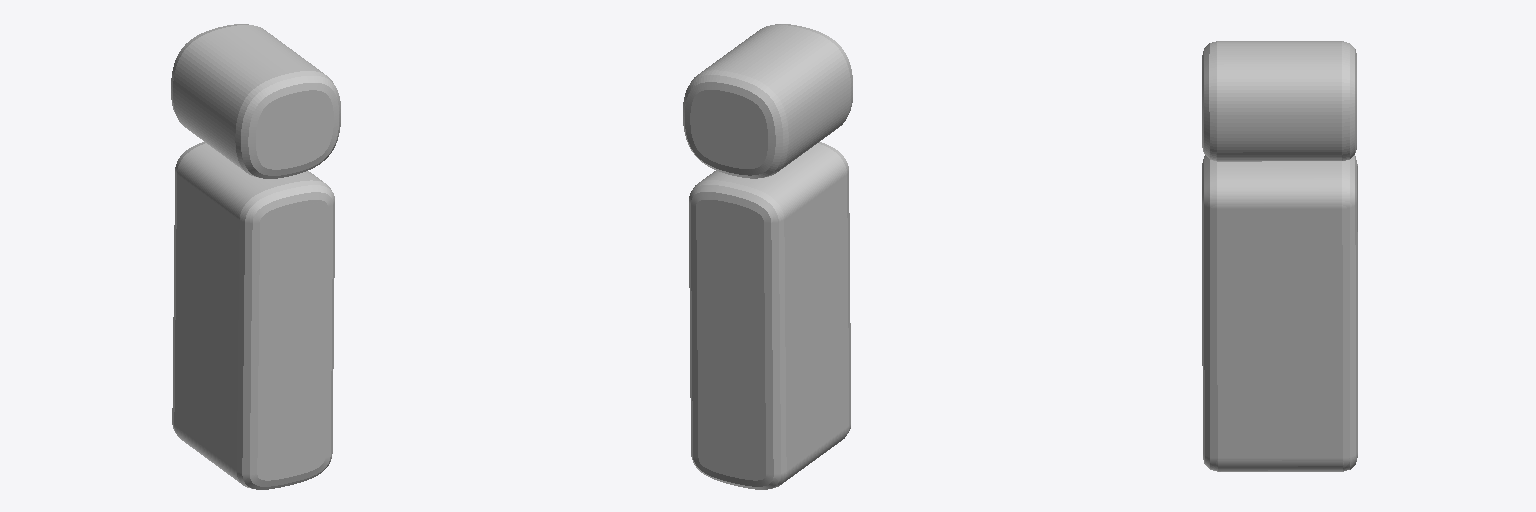
The model's file is i_of_chi.obj.
The picture shows the model from 3 angles: view 1: azimuth 30°, elevation 25°; view 2: azimuth 150°, elevation 25°; view 3: azimuth 270°, elevation 25°; orthographic projection.
Visible parts, largest first — view 1: Text; view 2: Text; view 3: Text.
Boxes of the visible parts, x1=… form: Text: x1=171, y1=24, x2=340, y2=489; Text: x1=683, y1=24, x2=852, y2=489; Text: x1=1202, y1=41, x2=1357, y2=471.
Size of the model in its own units: 0.1362 by 0.514 by 0.1769.